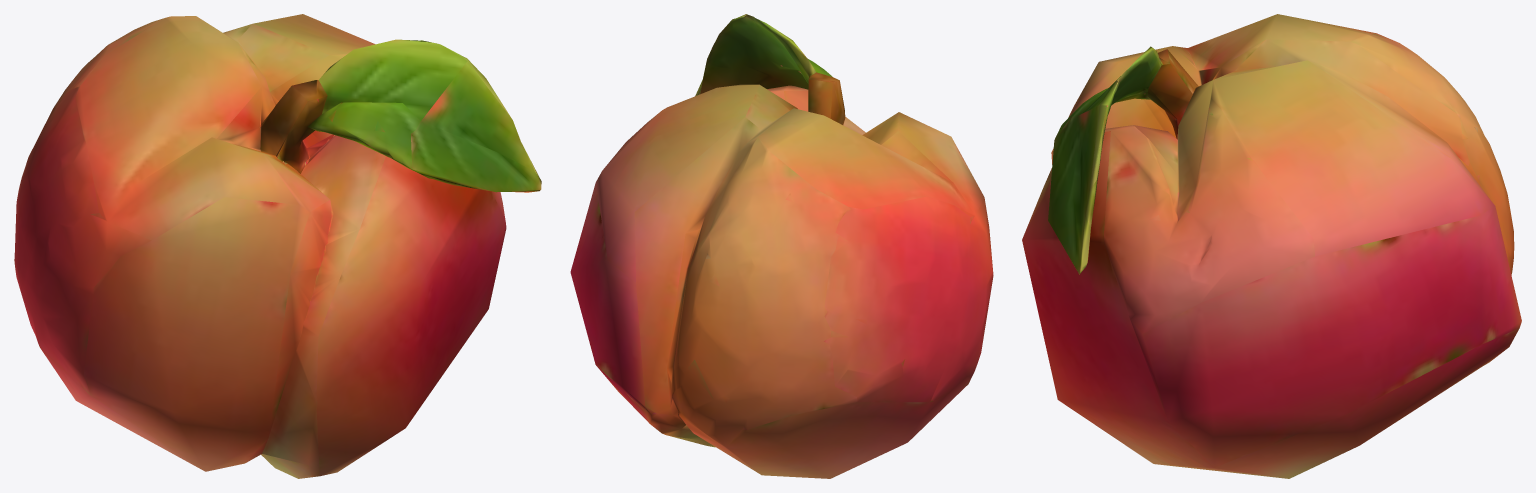
File: peach.glb
3 views of the same model, side by side, from view 1: azimuth 30°, elevation 25°; view 2: azimuth 150°, elevation 25°; view 3: azimuth 270°, elevation 25° (orthographic). The views are drawn at different scales.
Visible parts, largest first — view 1: textured_mesh.obj; view 2: textured_mesh.obj; view 3: textured_mesh.obj.
Part boxes in pixels (x1=…): textured_mesh.obj: x1=14, y1=14, x2=541, y2=478; textured_mesh.obj: x1=570, y1=14, x2=993, y2=478; textured_mesh.obj: x1=1022, y1=14, x2=1521, y2=478.
Size of what is drawn, in the model's own units: 0.2193 by 0.2172 by 0.2266.
Materials: 1 (1 with a texture image).
